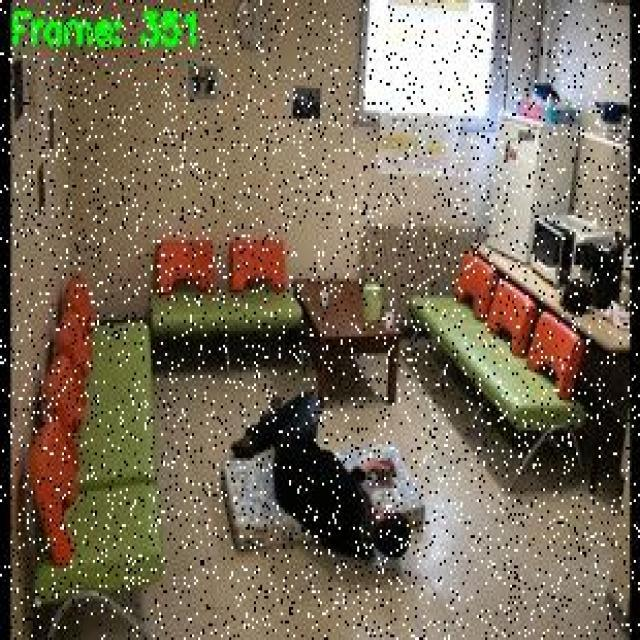fall: (231, 388, 415, 562)
